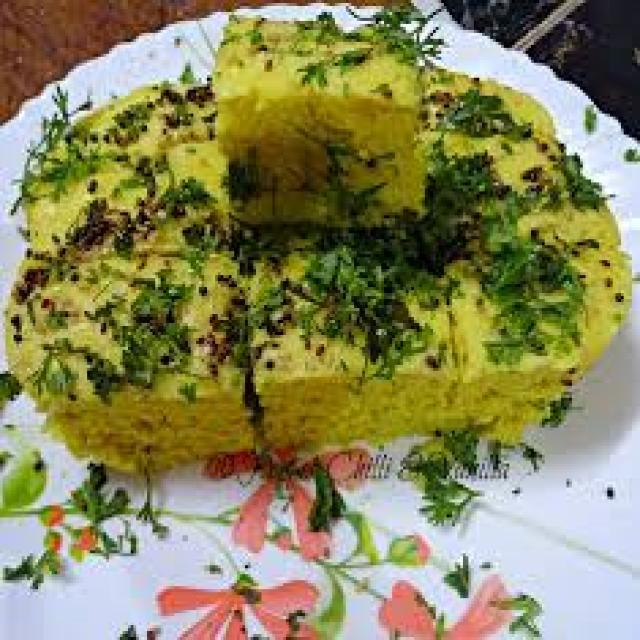DHOKLA: (0, 3, 632, 631), (218, 72, 417, 221), (267, 371, 558, 452), (49, 389, 251, 473)
